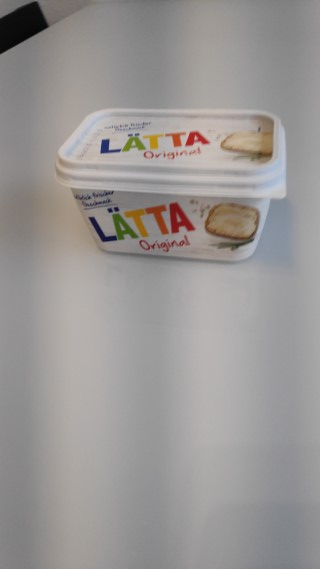laetta: (54, 106, 287, 262)
